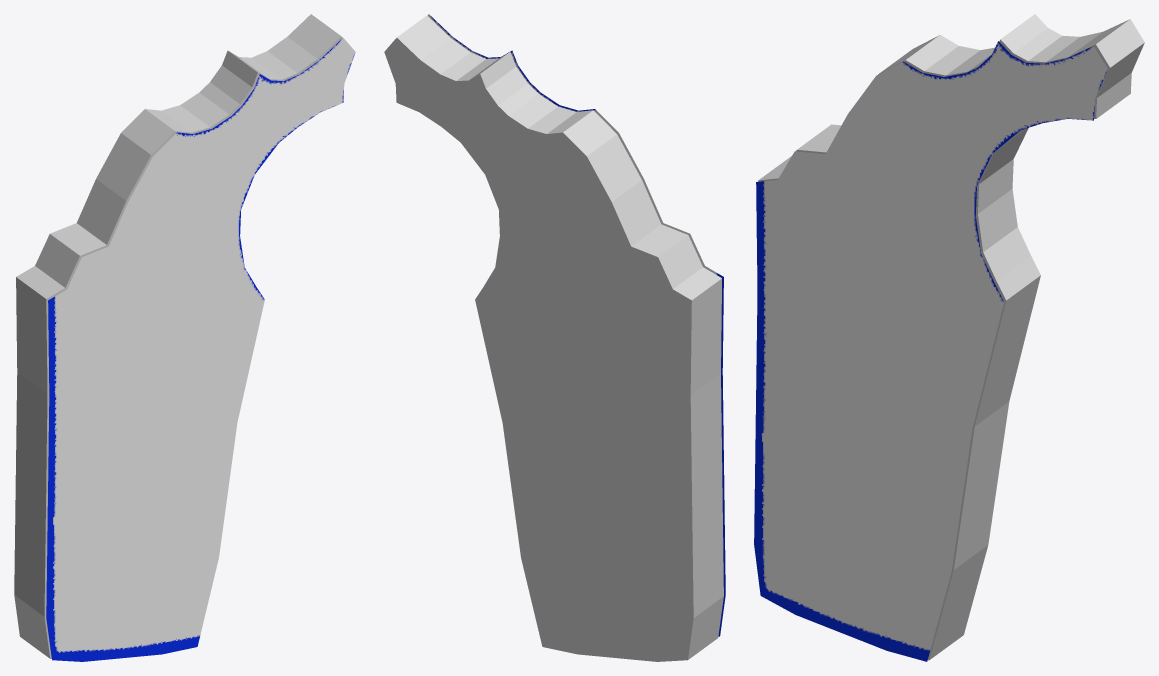
3 renders of one model, left to right at view 1: azimuth 30°, elevation 25°; view 2: azimuth 150°, elevation 25°; view 3: azimuth 330°, elevation 25°, orthographic. The views are drawn at different scales.
Parts seen in each view (by area): view 1: Out_2_1, Out_2_0; view 2: Out_2_0, Out_2_1; view 3: Out_2_1, Out_2_0.
Boxes of the visible parts, <box> form: Out_2_1: <box>46,38,355,661</box>; Out_2_0: <box>14,14,342,658</box>; Out_2_0: <box>384,15,723,661</box>; Out_2_1: <box>427,14,725,636</box>; Out_2_1: <box>754,41,1107,661</box>; Out_2_0: <box>758,14,1144,660</box>.
Size of the model in its own units: 2.95 by 5.23 by 0.53.
2 materials, 1 textured.
